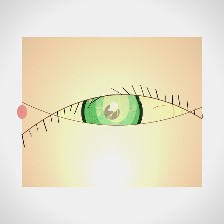corneal_ulcer: (88, 83, 144, 128)
